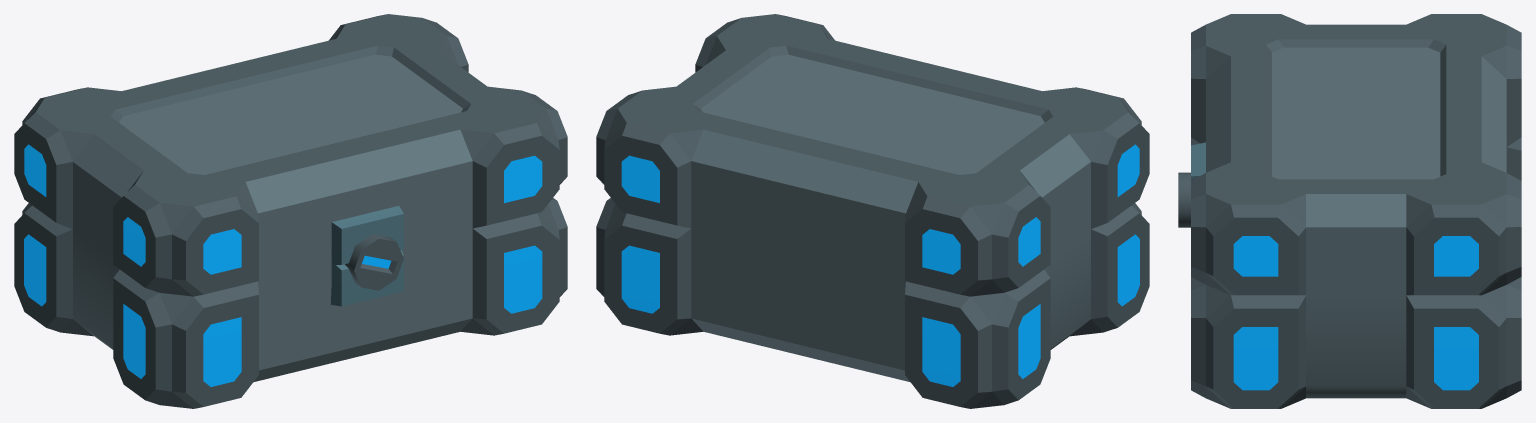
Rendered from Crate_001.glb.
3 views of the same model, side by side, from view 1: azimuth 30°, elevation 25°; view 2: azimuth 150°, elevation 25°; view 3: azimuth 270°, elevation 25° (orthographic).
Visible parts, largest first — view 1: Crate_001; view 2: Crate_001; view 3: Crate_001.
Boxes of the visible parts, x1,y1,x2,y2 form: Crate_001: (14, 14, 567, 408); Crate_001: (596, 14, 1149, 408); Crate_001: (1178, 14, 1521, 408).
Size of the model in its own units: 0.96 by 0.45 by 0.685.
2 materials, 2 textured.
